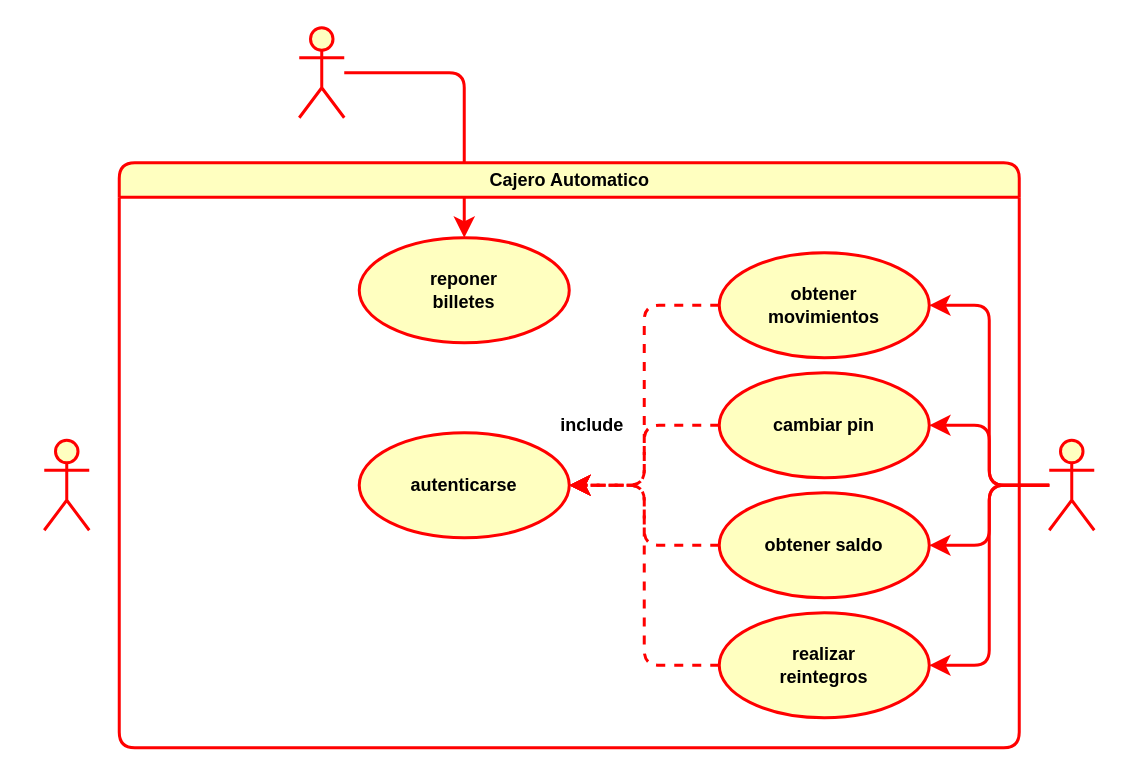
Image size: 1127x774. Some labels were removed from this diagram. Here are the shapes that lost their labels. From the top down, the centre of each, then its label:
the point at 321,72: Empleado
the point at 66,484: Cualquier persona
the point at 1071,484: Cliente
